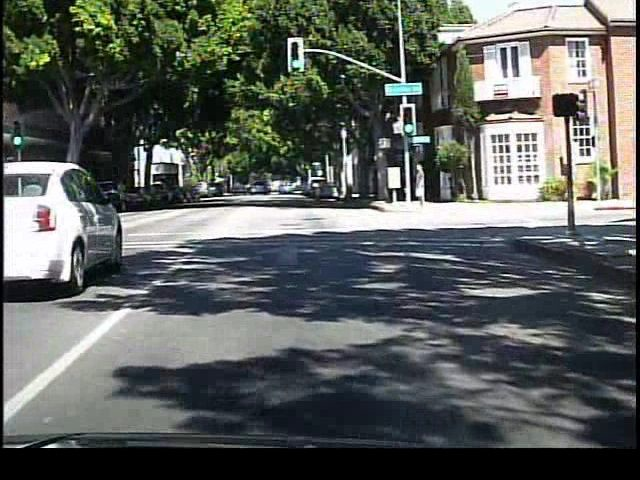person: (412, 158, 432, 211)
